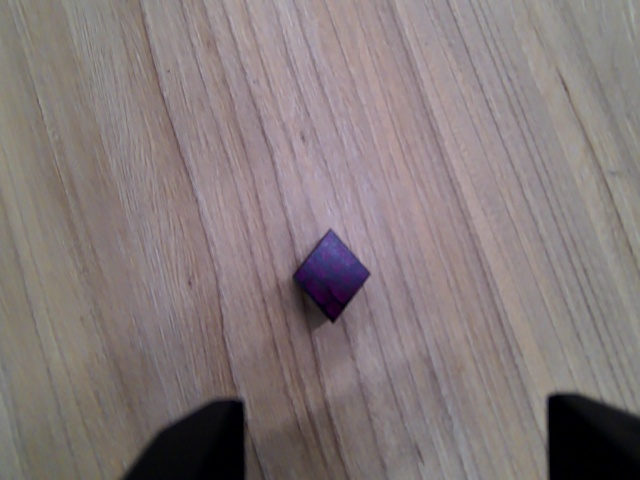brick: (290, 225, 374, 327)
